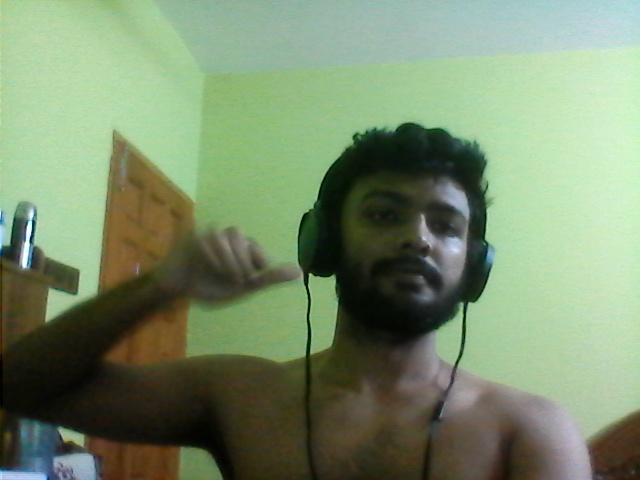I: (174, 222, 307, 314)
